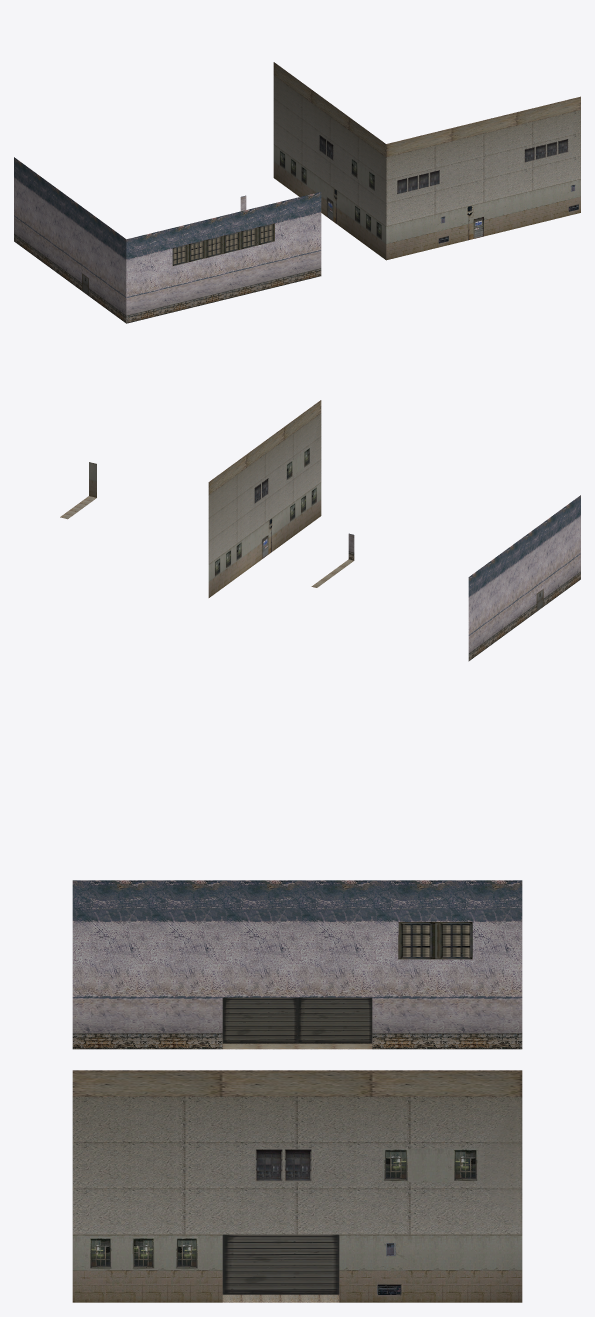
File: M11Z1_Building07_B.glb
3 views of the same model, one above another, from view 1: azimuth 30°, elevation 25°; view 2: azimuth 150°, elevation 25°; view 3: azimuth 270°, elevation 25° (orthographic). The views are drawn at different scales.
Parts seen in each view (by area): view 1: M11Z1_BUILDING07_B; view 2: M11Z1_BUILDING07_B; view 3: M11Z1_BUILDING07_B.
Boxes of the visible parts, x1,y1,x2,y2 form: M11Z1_BUILDING07_B: (14, 62, 580, 323); M11Z1_BUILDING07_B: (60, 400, 580, 661); M11Z1_BUILDING07_B: (72, 880, 522, 1302).
Bounding box in the file's own units: 56 × 13.69 × 24.
12 materials, 12 textured.
